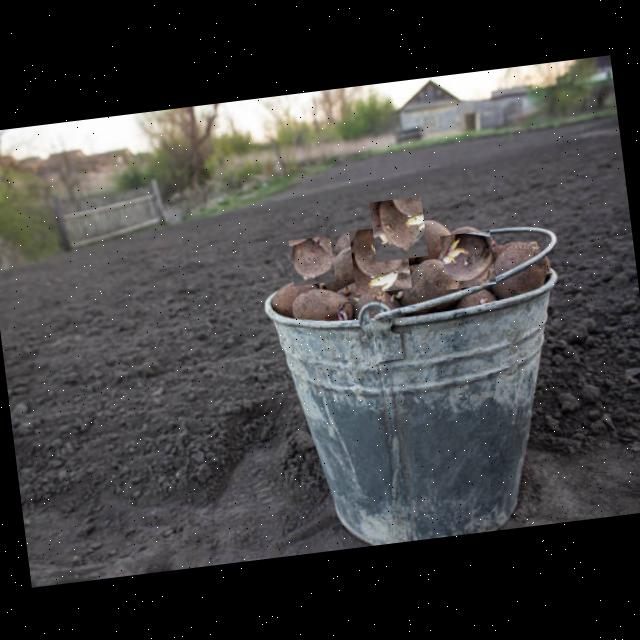Damaged potato: (281, 273, 359, 331), (438, 228, 494, 288), (490, 235, 546, 292), (287, 234, 334, 285)
Sprouted potato: (396, 248, 472, 310), (348, 224, 410, 294), (368, 195, 427, 261)
